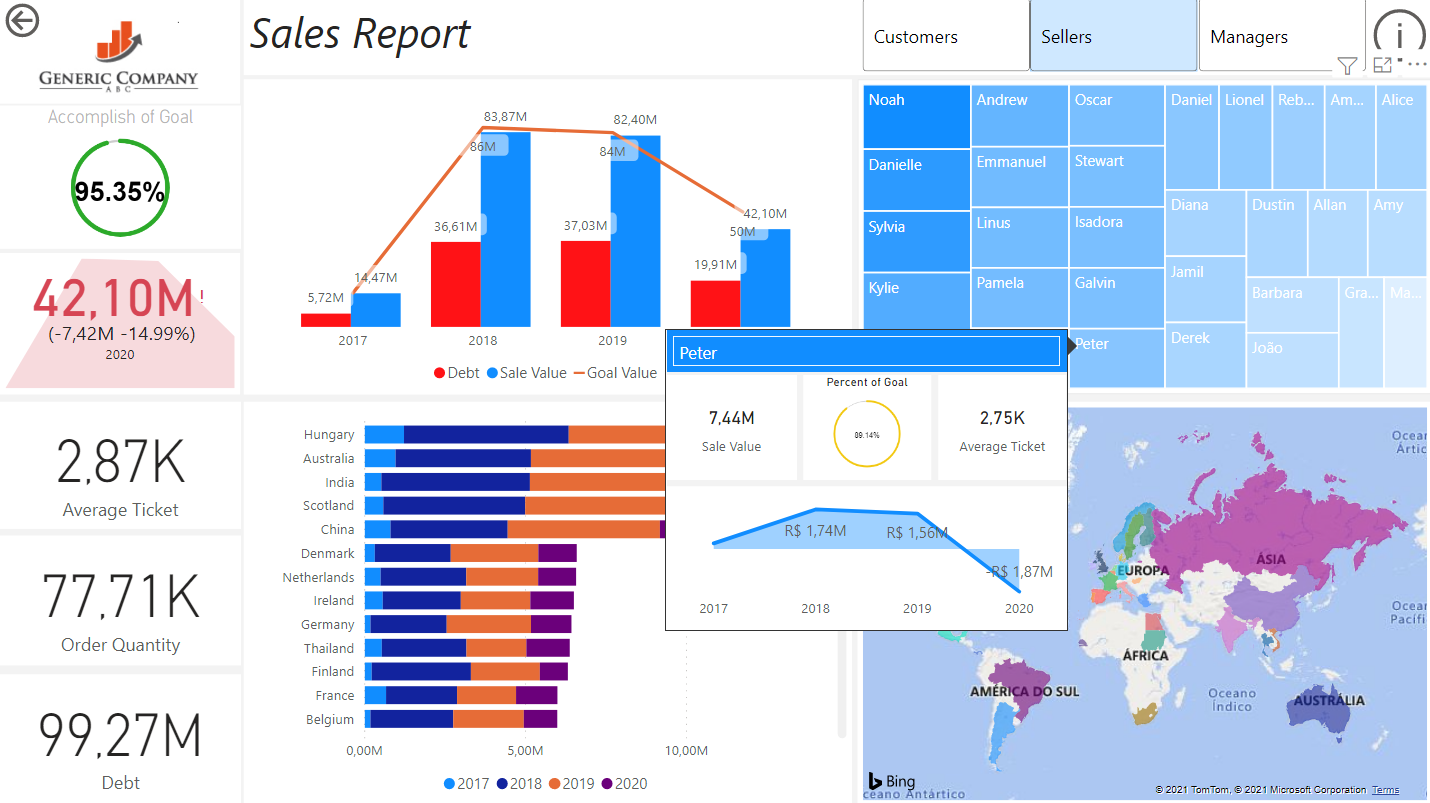

This screenshot's page, from the dashboard's own definition file:
{"tool":"powerbi","page":{"name":"Sales and Goals","canvas":[1280,720],"ordinal":0},"visuals":[{"type":"kpi","title":"KPI Sales","fields":{"Goal":["Fact Sales (Measures).___Sales Goal"],"Indicator":["Fact Sales (Measures).Sale Value"],"TrendLine":["Dim Time.Year"]},"box":[0,227.9,214.5,126.1],"z":0},{"type":"payPalKPIDonutChart55A431AB15A540ED924ACD72ED8D259F","title":"Accomplish of Goal","fields":{"myvalue":["Measures.Percent of Goal"]},"box":[0,96,215,128],"z":1000},{"type":"lineClusteredColumnComboChart","fields":{"Category":["Dim Time.Year","Dim Time.Quarter Name","Dim Time.Month Name"],"Y":["Measures.Debt","Fact Sales (Measures).Sale Value"],"Y2":["Fact Goals.Goal Value"]},"box":[218.2,72.7,543,281.2],"z":2000},{"type":"barChart","fields":{"Category":["Dim Branch.Country Name"],"Y":["Fact Sales (Measures).___Sales Value"],"Series":["Dim Time.Year"]},"box":[218.2,360,543,360],"z":3000},{"type":"card","fields":{"Values":["Measures.Average Ticket"]},"box":[0,360,215,113.9],"z":4000},{"type":"filledMap","fields":{"Category":["Dim Branch.Country Name"],"Series":["Dim Branch.City Name"]},"box":[766.1,360,513.9,361.2],"z":5000},{"type":"image","box":[0,0,214.5,94.5],"z":6000},{"type":"textbox","box":[218.2,0,1061.8,69.1],"z":7000},{"type":"card","fields":{"Values":["Fact Sales (Measures).Order Quantity"]},"box":[0,480.4,215,116.4],"z":8000},{"type":"card","fields":{"Values":["Measures.Debt"]},"box":[0,603.6,215,116.4],"z":9000},{"type":"actionButton","title":"btn_Customers_on","box":[770.2,0,149.6,67],"z":11000},{"type":"actionButton","title":"btn_Sellers_off","box":[919.8,0,150.7,65.9],"z":12000},{"type":"actionButton","title":"btn_Managers_off","box":[1070.5,0,149.6,65.9],"z":15000},{"type":"actionButton","title":"btn_Menu","box":[1220.1,3.3,60.3,60.3],"z":16000},{"type":"treemap","title":"Sale by Customer","fields":{"Group":["Dim Customer.Customer Name"],"Values":["Fact Sales (Measures).Sale Value"]},"box":[766.1,72.7,513.9,281.2],"z":17000},{"type":"actionButton","box":[0,0,100,40],"z":20000}]}

Visuals, with their boxes in screenshot pixels (x1, y1, x2, y2), scaled from the page's 1280x720 canvas onto the 1430x803 screenshot:
"KPI Sales" kpi: (x1=0, y1=254, x2=240, y2=395)
"Accomplish of Goal" payPalKPIDonutChart55A431AB15A540ED924ACD72ED8D259F: (x1=0, y1=107, x2=240, y2=250)
lineClusteredColumnComboChart - Dim Time.Year x Dim Time.Quarter Name: (x1=244, y1=81, x2=850, y2=395)
barChart - Dim Branch.Country Name x Fact Sales (Measures).___Sales Value: (x1=244, y1=402, x2=850, y2=802)
card - Measures.Average Ticket: (x1=0, y1=402, x2=240, y2=529)
filledMap - Dim Branch.Country Name x Dim Branch.City Name: (x1=856, y1=402, x2=1429, y2=802)
image: (x1=0, y1=0, x2=240, y2=105)
textbox: (x1=244, y1=0, x2=1429, y2=77)
card - Fact Sales (Measures).Order Quantity: (x1=0, y1=536, x2=240, y2=666)
card - Measures.Debt: (x1=0, y1=673, x2=240, y2=802)
"btn_Customers_on" actionButton: (x1=860, y1=0, x2=1028, y2=75)
"btn_Sellers_off" actionButton: (x1=1028, y1=0, x2=1196, y2=73)
"btn_Managers_off" actionButton: (x1=1196, y1=0, x2=1363, y2=73)
"btn_Menu" actionButton: (x1=1363, y1=4, x2=1429, y2=71)
"Sale by Customer" treemap: (x1=856, y1=81, x2=1429, y2=395)
actionButton: (x1=0, y1=0, x2=112, y2=45)
